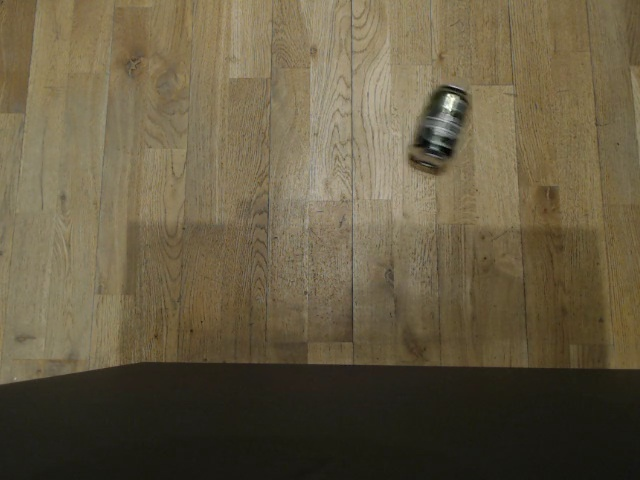beer: (407, 82, 469, 172)
